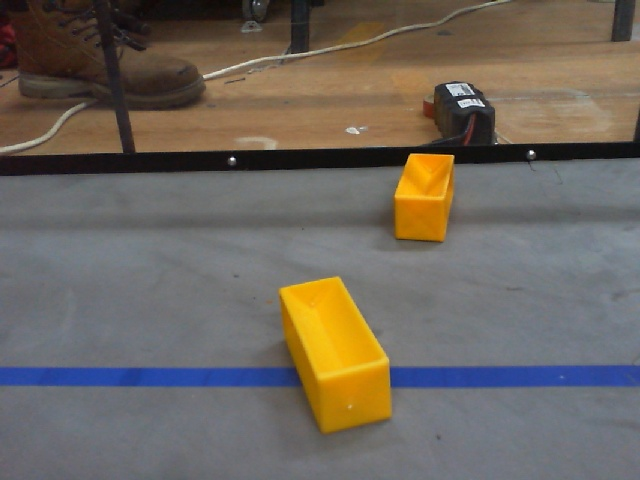YellowSample: (273, 275, 395, 438), (385, 147, 458, 252)
